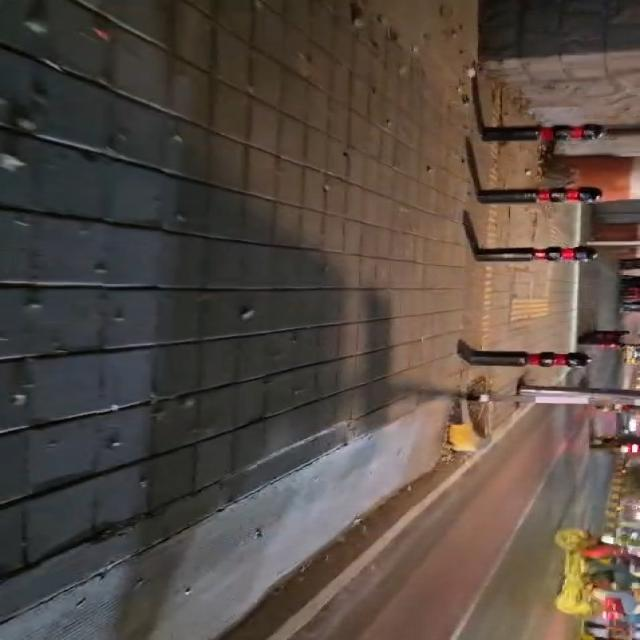bench: (458, 343, 590, 368), (481, 124, 606, 142), (477, 187, 602, 204), (474, 247, 597, 262)
